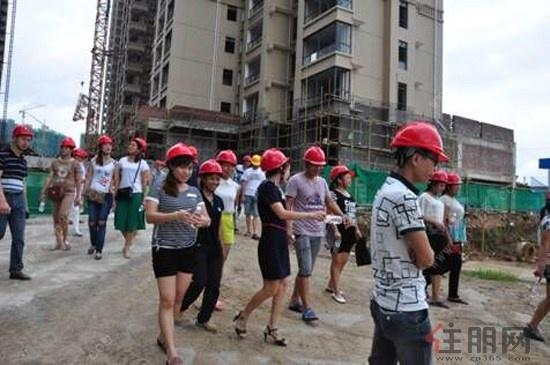Helmet: (394, 122, 446, 181), (166, 143, 194, 183), (303, 146, 326, 177)
